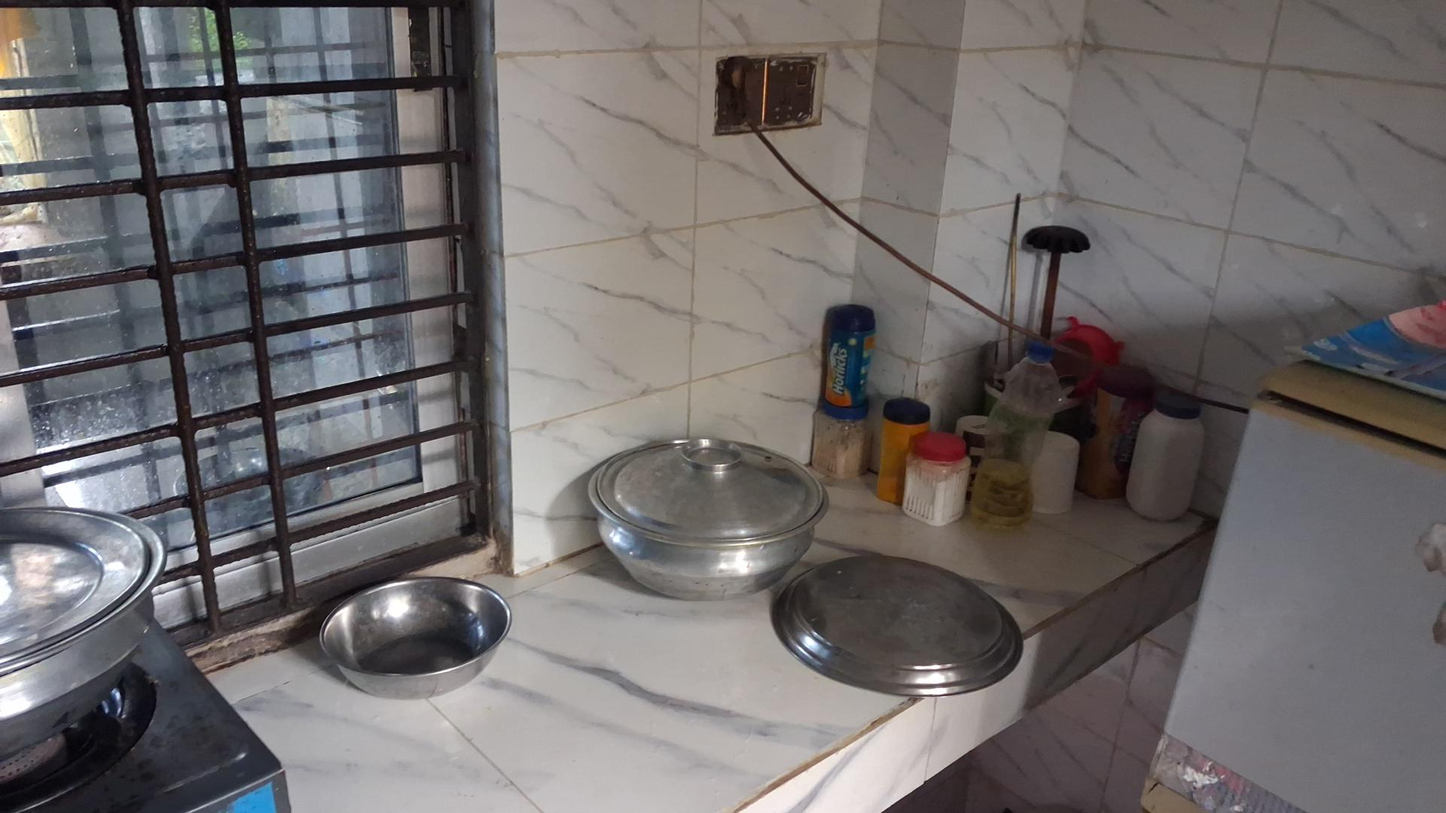Bottle: (970, 339, 1063, 530)
Bowl: (318, 576, 513, 701)
Jar: (1123, 389, 1206, 523), (816, 302, 881, 403), (904, 432, 969, 523), (812, 406, 868, 490)
Plate: (770, 564, 1020, 694)
Pot: (0, 507, 180, 750), (595, 436, 833, 598)
